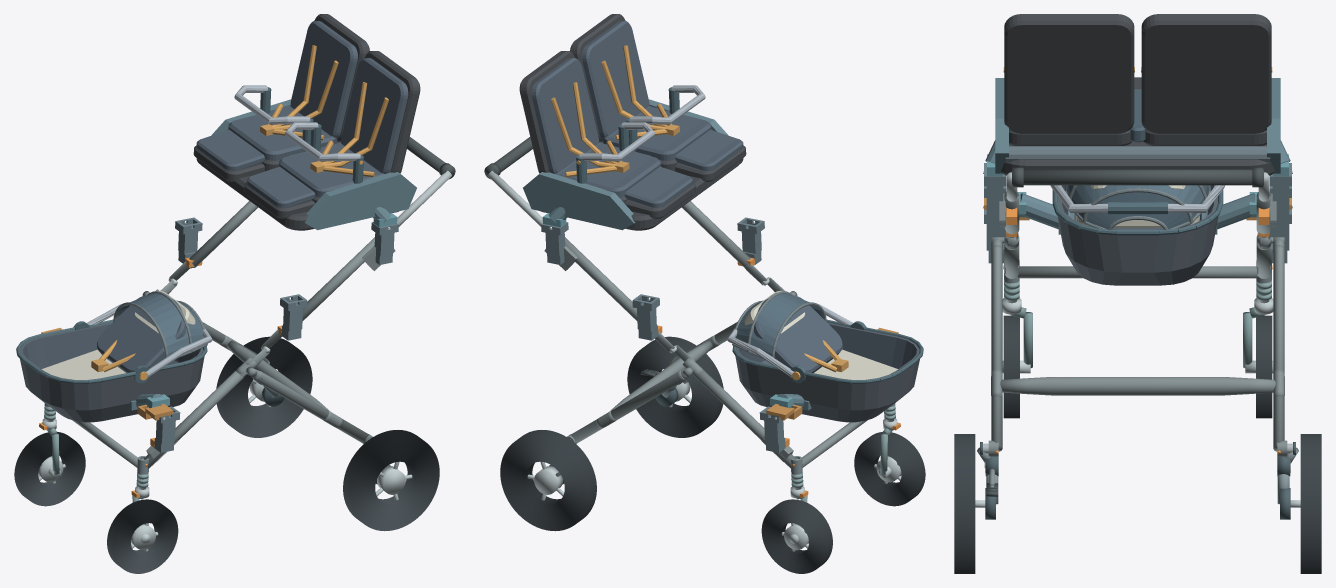
The model's file is D25_w650_state1_wheel_M.glb.
3 renders of one model, left to right at view 1: azimuth 30°, elevation 25°; view 2: azimuth 150°, elevation 25°; view 3: azimuth 270°, elevation 25°, orthographic. The views are drawn at different scales.
Visible parts, largest first — view 1: D25_Upper, D25_Lower, RL_tire.008, RR_tire.008, FL_tire.008, FR_tire.008, V46_rear_leg_-1.009, main_lower_-1.009, main_upper_-1.009, main_upper_1.009, Universal_Cabin_Receiver_M_-1, V46_rearbar.009 (+7 smaller); view 2: D25_Upper, D25_Lower, RR_tire.008, RL_tire.008, FR_tire.008, FL_tire.008, V46_rear_leg_1.009, main_lower_1.009, main_upper_1.009, main_upper_-1.009, Universal_Cabin_Receiver_M_1, V46_rearbar.009 (+7 smaller); view 3: D25_Upper, D25_Lower, V46_rearbar.009, round_handle.008, RL_tire.008, RR_tire.008, V46_rear_leg_1.009, V46_rear_leg_-1.009, D25_Lower_Mount_L, front_fixed_round_tube.008, FL_tire.008, FR_tire.008 (+5 smaller).
Boxes of the visible parts, x1=… form: D25_Upper: x1=193, y1=14, x2=420, y2=230; D25_Lower: x1=16, y1=291, x2=212, y2=422; RL_tire.008: x1=343, y1=430, x2=439, y2=531; RR_tire.008: x1=216, y1=336, x2=312, y2=437; FL_tire.008: x1=107, y1=499, x2=178, y2=573; FR_tire.008: x1=14, y1=432, x2=85, y2=506; V46_rear_leg_-1.009: x1=254, y1=370, x2=368, y2=443; main_lower_-1.009: x1=144, y1=371, x2=246, y2=468; main_upper_-1.009: x1=302, y1=237, x2=374, y2=320; main_upper_1.009: x1=189, y1=201, x2=257, y2=267; Universal_Cabin_Receiver_M_-1: x1=280, y1=294, x2=307, y2=340; V46_rearbar.009: x1=227, y1=340, x2=330, y2=411; D25_Upper: x1=519, y1=14, x2=746, y2=230; D25_Lower: x1=727, y1=291, x2=923, y2=422; RR_tire.008: x1=500, y1=430, x2=596, y2=531; RL_tire.008: x1=627, y1=336, x2=723, y2=437; FR_tire.008: x1=761, y1=499, x2=832, y2=573; FL_tire.008: x1=854, y1=432, x2=925, y2=506; V46_rear_leg_1.009: x1=571, y1=370, x2=685, y2=443; main_lower_1.009: x1=693, y1=371, x2=795, y2=468; main_upper_1.009: x1=565, y1=237, x2=637, y2=320; main_upper_-1.009: x1=682, y1=201, x2=750, y2=267; Universal_Cabin_Receiver_M_1: x1=632, y1=294, x2=659, y2=340; V46_rearbar.009: x1=609, y1=340, x2=712, y2=411; D25_Upper: x1=995, y1=14, x2=1280, y2=175; D25_Lower: x1=1050, y1=185, x2=1224, y2=285; V46_rearbar.009: x1=1000, y1=377, x2=1275, y2=395; round_handle.008: x1=1012, y1=169, x2=1263, y2=185; RL_tire.008: x1=954, y1=434, x2=975, y2=573; RR_tire.008: x1=1300, y1=434, x2=1321, y2=573; V46_rear_leg_1.009: x1=1273, y1=245, x2=1284, y2=451; V46_rear_leg_-1.009: x1=991, y1=245, x2=1002, y2=451; D25_Lower_Mount_L: x1=1018, y1=192, x2=1257, y2=234; front_fixed_round_tube.008: x1=1017, y1=266, x2=1258, y2=278; FL_tire.008: x1=1003, y1=315, x2=1019, y2=418; FR_tire.008: x1=1256, y1=315, x2=1272, y2=418.
Size of the model in its own units: 1.28 by 1.37 by 0.7871.
